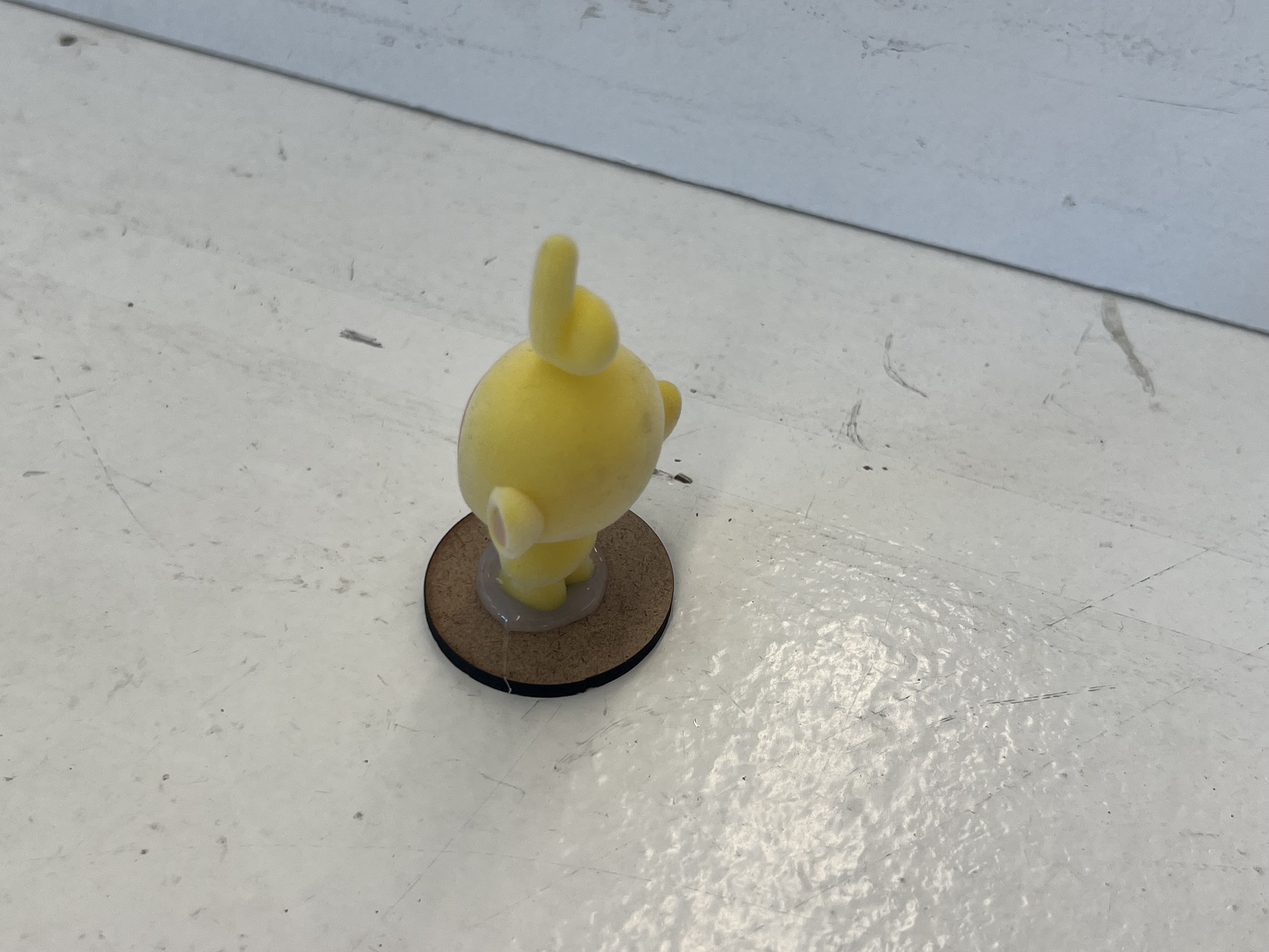teletubby: (458, 235, 681, 609)
